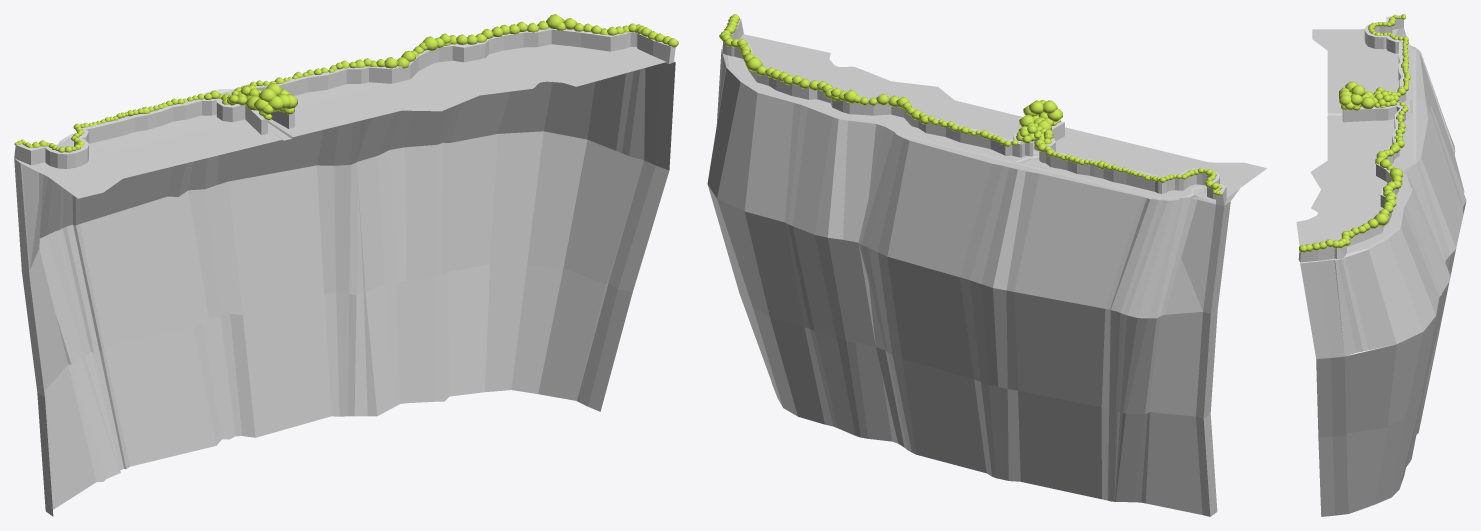
Rendered from eternity-forest-base-redone.fbx.
3 renders of one model, left to right at view 1: azimuth 30°, elevation 25°; view 2: azimuth 150°, elevation 25°; view 3: azimuth 270°, elevation 25°, orthographic. The views are drawn at different scales.
Visible parts, largest first — view 1: CliffSide.001, CliffSide, fortestWall, treeTop.021; view 2: CliffSide.001, CliffSide, fortestWall, treeTop.021; view 3: CliffSide.001, CliffSide, treeTop.021, fortestWall.
Part boxes in pixels (x1,y1,x2,y2): CliffSide.001: (14, 62, 675, 516); CliffSide: (15, 44, 675, 411); fortestWall: (14, 27, 675, 168); treeTop.021: (14, 14, 678, 152); CliffSide.001: (707, 49, 1230, 516); CliffSide: (721, 34, 1266, 344); fortestWall: (722, 19, 1226, 205); treeTop.021: (719, 14, 1222, 195); CliffSide.001: (1300, 41, 1466, 513); CliffSide: (1296, 28, 1430, 516); treeTop.021: (1299, 14, 1410, 252); fortestWall: (1298, 15, 1406, 262).
Bounding box in the file's own units: 92100 × 56902 × 27874.
